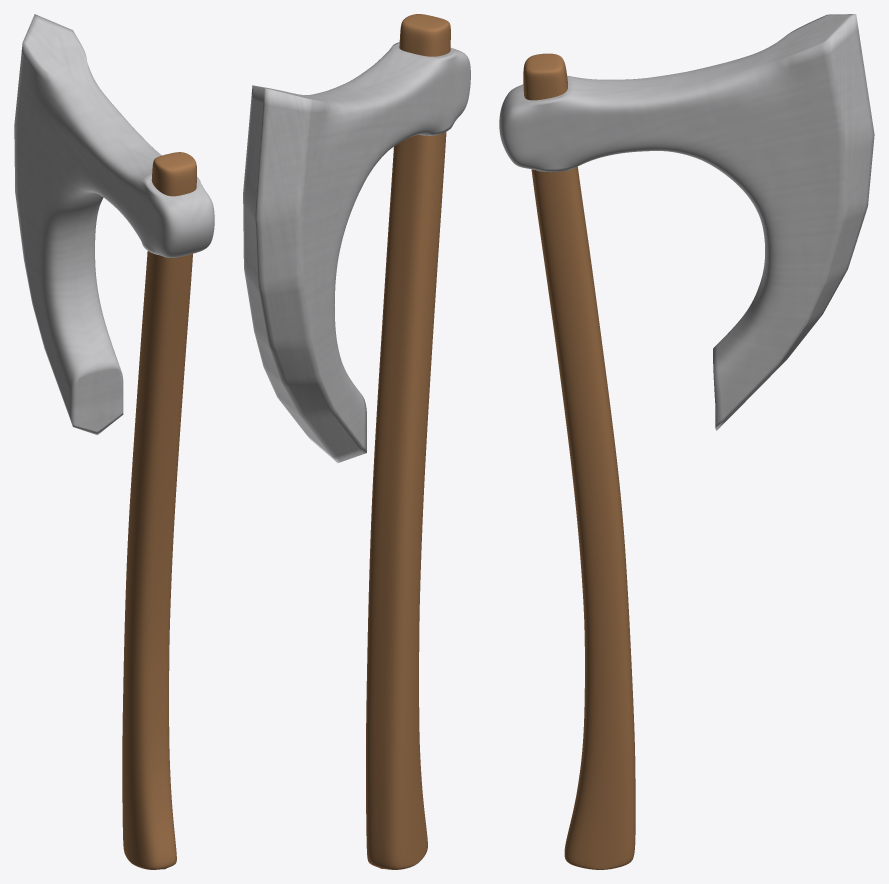
Rendered from axe.fbx.
3 renders of one model, left to right at view 1: azimuth 30°, elevation 25°; view 2: azimuth 150°, elevation 25°; view 3: azimuth 270°, elevation 25°, orthographic. The views are drawn at different scales.
Parts seen in each view (by area): view 1: Axe; view 2: Axe; view 3: Axe.
Boxes of the visible parts, x1,y1,x2,y2 form: Axe: (14,14,214,869); Axe: (243,14,470,869); Axe: (499,14,874,869).
Size of the model in its own units: 3.49 by 50.55 by 20.28.
